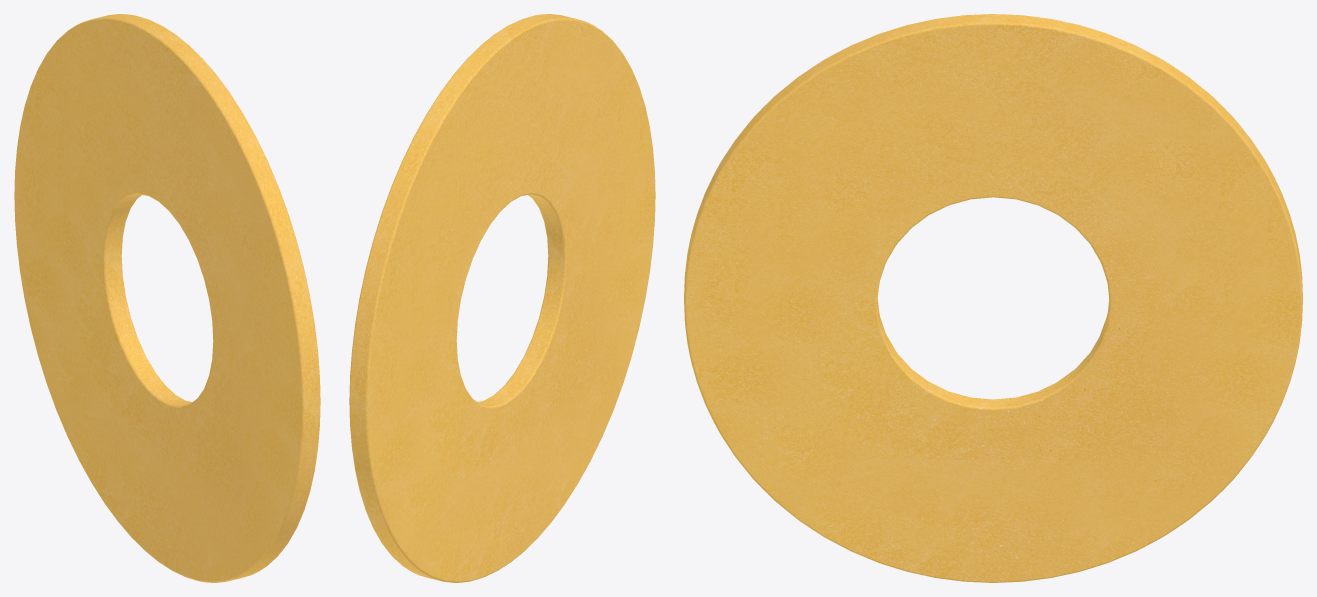
3 views of the same model, side by side, from view 1: azimuth 30°, elevation 25°; view 2: azimuth 150°, elevation 25°; view 3: azimuth 270°, elevation 25° (orthographic). The views are drawn at different scales.
Parts seen in each view (by area): view 1: object_1; view 2: object_1; view 3: object_1.
Part boxes in pixels (x1,y1,x2,y2): object_1: [14, 14, 320, 582]; object_1: [349, 14, 655, 582]; object_1: [684, 14, 1302, 582].
Bounding box in the file's own units: 0.18 × 4.8 × 4.8.
Materials: 1 (1 with a texture image).
